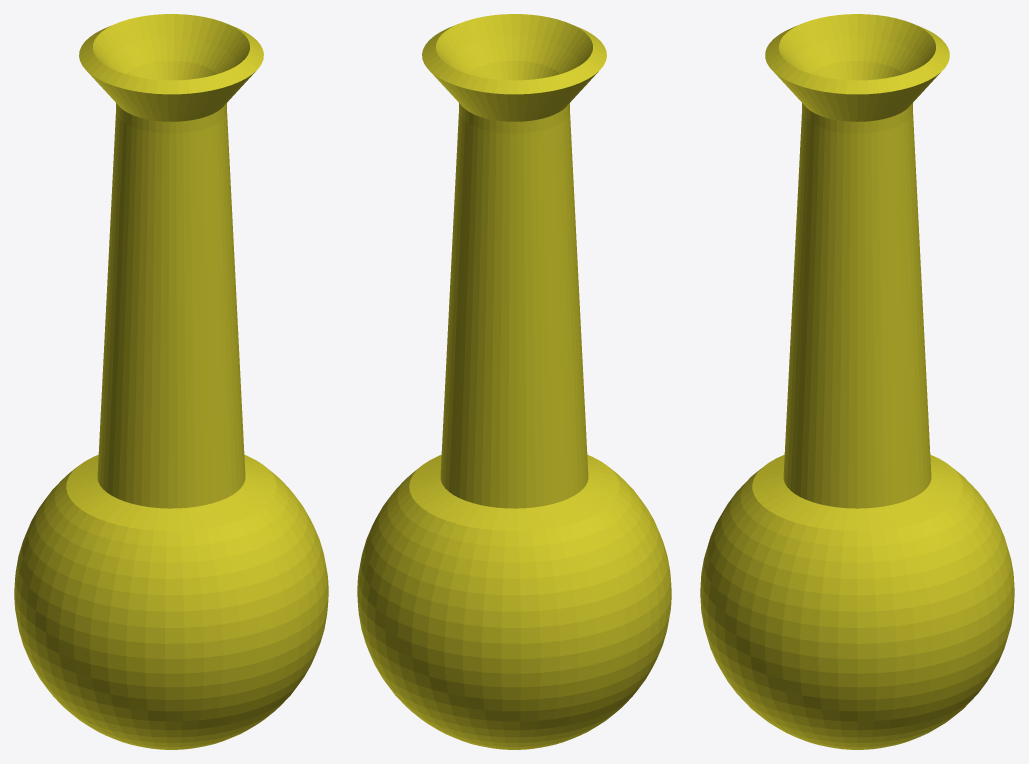
Rendered from kolben.fbx.
3 renders of one model, left to right at view 1: azimuth 30°, elevation 25°; view 2: azimuth 150°, elevation 25°; view 3: azimuth 270°, elevation 25°, orthographic.
Visible parts, largest first — view 1: Sphere; view 2: Sphere; view 3: Sphere.
Boxes of the visible parts, bbox=[...] form: Sphere: bbox=[14, 14, 328, 749]; Sphere: bbox=[357, 14, 671, 749]; Sphere: bbox=[700, 14, 1014, 749].
Size of the model in its own units: 0.6 by 1.45 by 0.5988.
